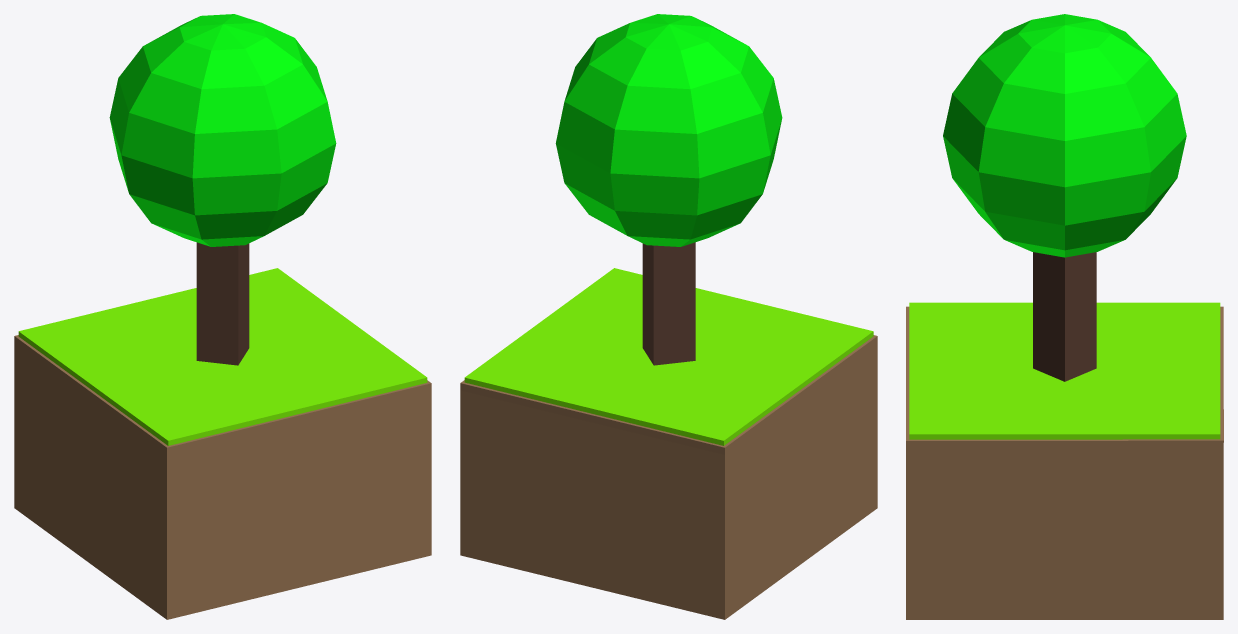
File: Tree_Short_Tile.glb
3 renders of one model, left to right at view 1: azimuth 30°, elevation 25°; view 2: azimuth 150°, elevation 25°; view 3: azimuth 270°, elevation 25°, orthographic. The views are drawn at different scales.
Visible parts, largest first — view 1: Grass, Sphere, Cylinder; view 2: Grass, Sphere, Cylinder; view 3: Grass, Sphere, Cylinder.
Boxes of the visible parts, box(x1,y1,x2,y2) form: Grass: box(14, 268, 431, 619); Sphere: box(109, 14, 336, 246); Cylinder: box(196, 242, 249, 365); Grass: box(460, 268, 877, 619); Sphere: box(555, 14, 782, 246); Cylinder: box(642, 242, 695, 365); Grass: box(906, 302, 1223, 619); Sphere: box(943, 14, 1186, 257); Cylinder: box(1033, 252, 1096, 381).
Bounding box in the file's own units: 1 × 1.83 × 1.
